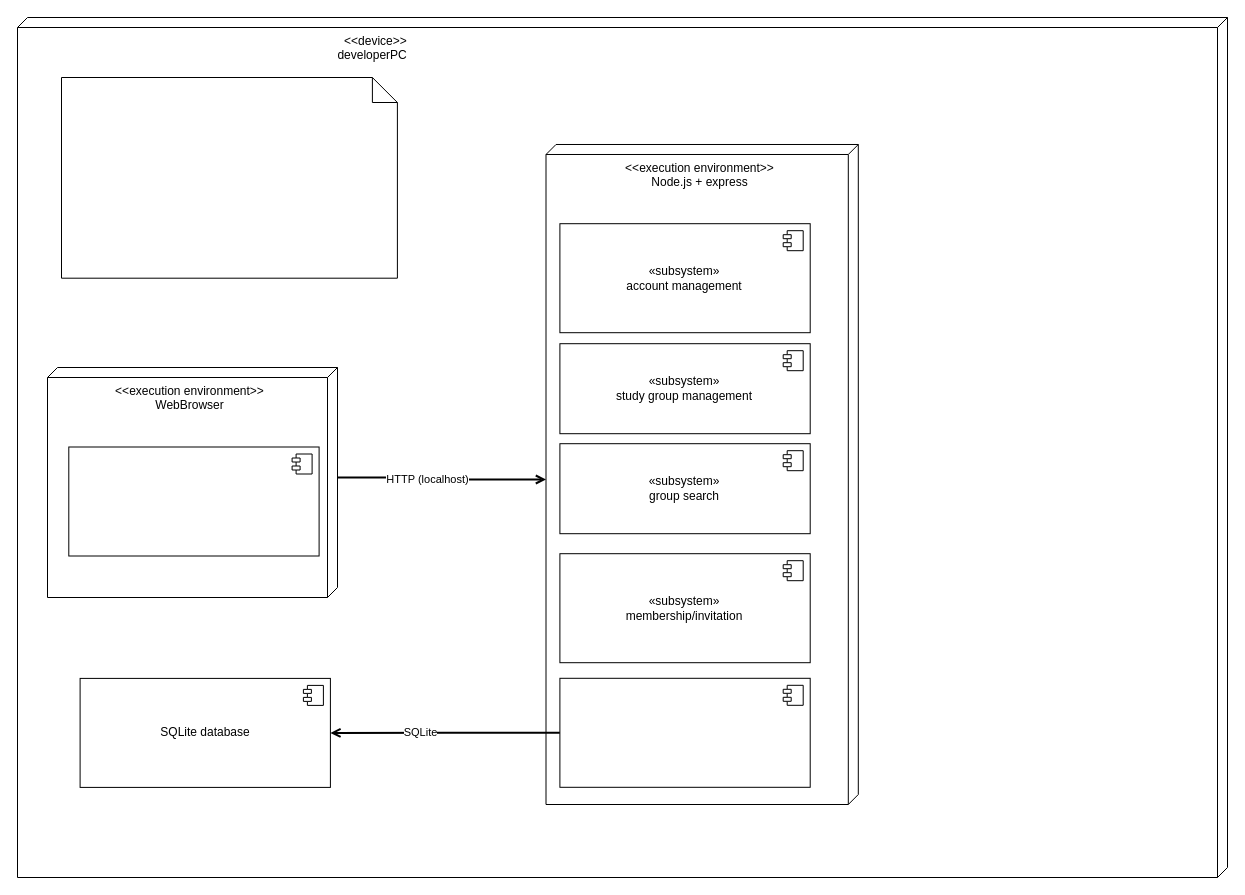
Image size: 1245x895. Some labels were removed from this diagram. Each missing label, with the centre of its shape:
"Sprint 4 UI skeleton functional other subsystems/database planned for sprint 5" goes at point 228,177.
"«subsystem» data management" goes at point 684,732.
"«subsystem» UI (React)" goes at point 193,501.
